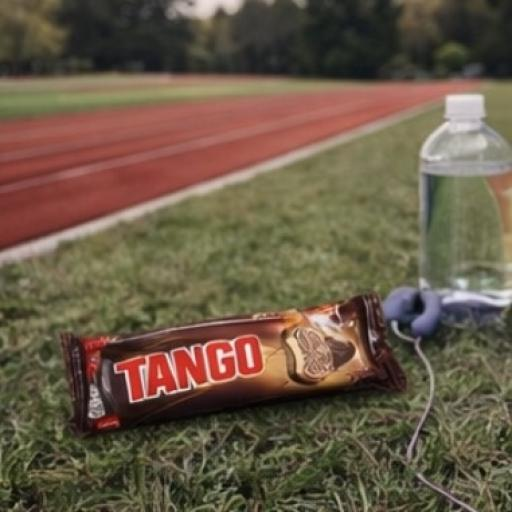tango: (43, 272, 427, 452)
